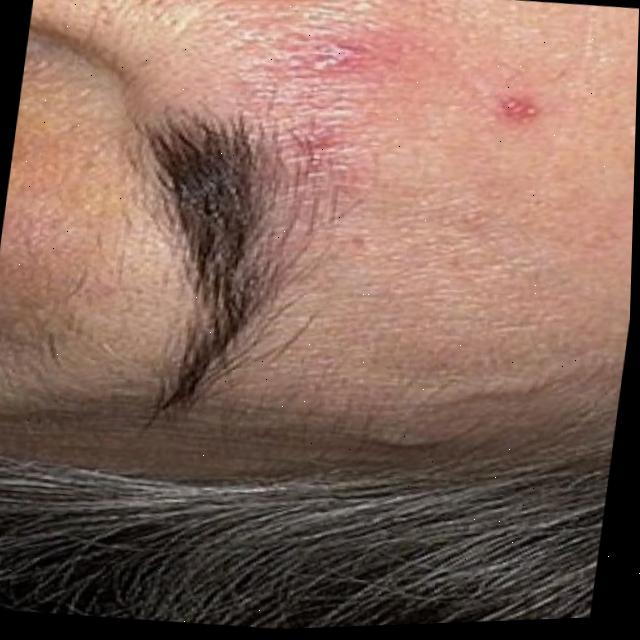Rosacea: (263, 0, 429, 240), (490, 82, 545, 135)
